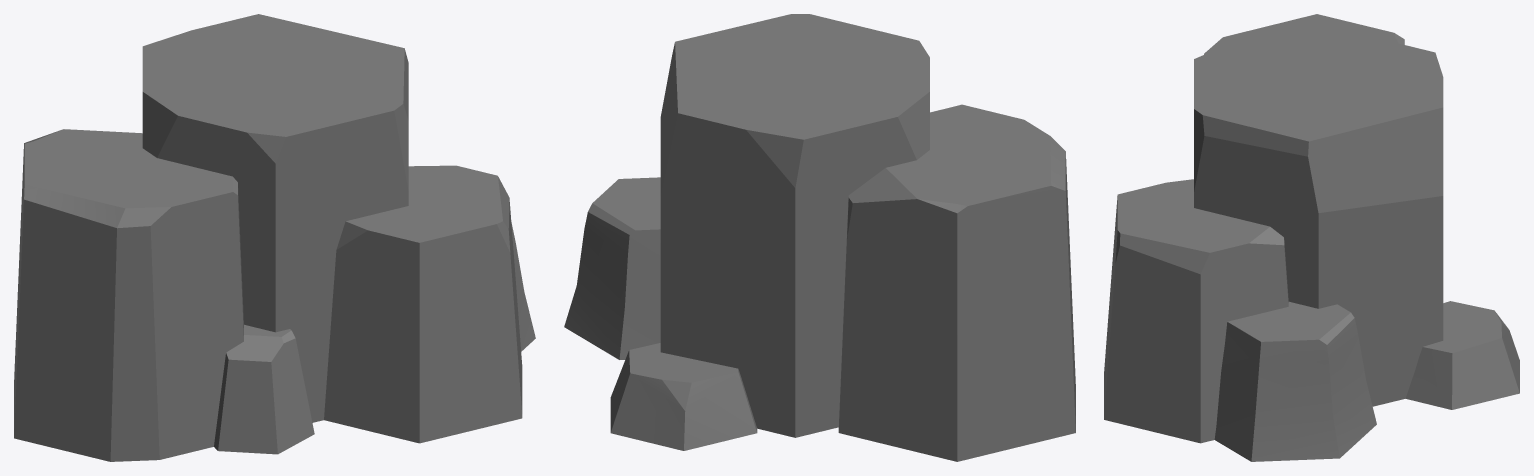
File: rock_formation5.fbx
The picture shows the model from 3 angles, left to right: view 1: azimuth 30°, elevation 25°; view 2: azimuth 150°, elevation 25°; view 3: azimuth 270°, elevation 25°; orthographic projection. The views are drawn at different scales.
Parts seen in each view (by area): view 1: rock; view 2: rock; view 3: rock.
Boxes of the visible parts, box(x1,y1,x2,y2) form: rock: box(14, 14, 535, 461); rock: box(564, 14, 1075, 461); rock: box(1104, 14, 1519, 461).
Size of the model in its own units: 1388 by 785 by 1079.
Materials: 1 (1 with a texture image).
